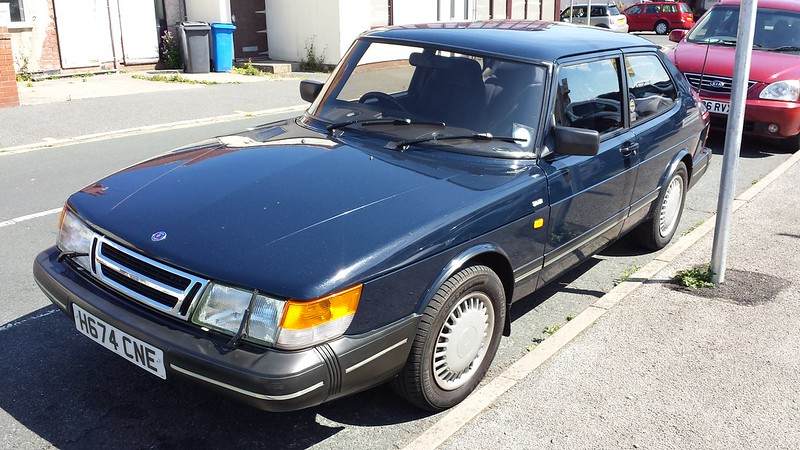number_plate: (50, 302, 185, 383), (697, 95, 731, 121)
